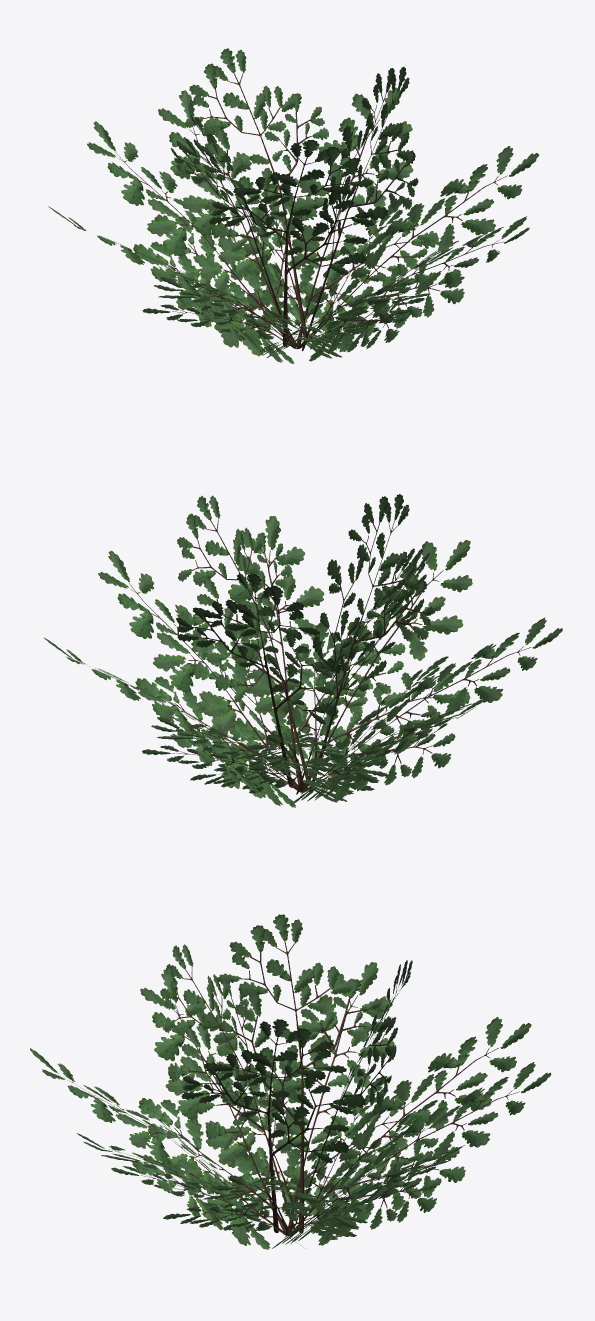
Rendered from Bush_01.obj.
The picture shows the model from 3 angles, top to bottom: view 1: azimuth 30°, elevation 25°; view 2: azimuth 150°, elevation 25°; view 3: azimuth 270°, elevation 25°; orthographic projection. The views are drawn at different scales.
Parts seen in each view (by area): view 1: Plane.323_Plane.350, Plane.316_Plane.343, Plane.326_Plane.354, Plane.322_Plane.349, Plane.319_Plane.346, Plane.324_Plane.352, Plane.327_Plane.355, Plane.320_Plane.347, Plane.321_Plane.348, Plane.318_Plane.345, Plane.317_Plane.344, Plane.325_Plane.353; view 2: Plane.317_Plane.344, Plane.320_Plane.347, Plane.316_Plane.343, Plane.321_Plane.348, Plane.327_Plane.355, Plane.324_Plane.352, Plane.326_Plane.354, Plane.322_Plane.349, Plane.323_Plane.350, Plane.319_Plane.346, Plane.325_Plane.353, Plane.318_Plane.345; view 3: Plane.318_Plane.345, Plane.325_Plane.353, Plane.322_Plane.349, Plane.321_Plane.348, Plane.327_Plane.355, Plane.319_Plane.346, Plane.317_Plane.344, Plane.324_Plane.352, Plane.316_Plane.343, Plane.326_Plane.354, Plane.323_Plane.350, Plane.320_Plane.347.
Boxes of the visible parts, x1,y1,x2,y2 form: Plane.323_Plane.350: [242, 87, 439, 347]; Plane.316_Plane.343: [294, 146, 539, 352]; Plane.326_Plane.354: [177, 48, 328, 337]; Plane.322_Plane.349: [87, 121, 295, 356]; Plane.319_Plane.346: [154, 90, 321, 347]; Plane.324_Plane.352: [209, 140, 387, 346]; Plane.327_Plane.355: [302, 66, 418, 351]; Plane.320_Plane.347: [306, 216, 529, 361]; Plane.321_Plane.348: [142, 276, 341, 358]; Plane.318_Plane.345: [48, 206, 294, 363]; Plane.317_Plane.344: [259, 278, 430, 357]; Plane.325_Plane.353: [170, 115, 288, 334]; Plane.317_Plane.344: [267, 540, 472, 789]; Plane.320_Plane.347: [191, 516, 381, 787]; Plane.316_Plane.343: [98, 550, 308, 798]; Plane.321_Plane.348: [316, 617, 562, 801]; Plane.327_Plane.355: [177, 495, 309, 785]; Plane.324_Plane.352: [309, 494, 434, 792]; Plane.326_Plane.354: [176, 573, 341, 787]; Plane.322_Plane.349: [190, 733, 389, 794]; Plane.323_Plane.350: [44, 637, 300, 807]; Plane.319_Plane.346: [142, 717, 346, 802]; Plane.325_Plane.353: [296, 548, 429, 794]; Plane.318_Plane.345: [290, 697, 488, 805]; Plane.318_Plane.345: [226, 962, 427, 1233]; Plane.325_Plane.353: [199, 914, 384, 1233]; Plane.322_Plane.349: [281, 1017, 531, 1236]; Plane.321_Plane.348: [138, 969, 312, 1232]; Plane.327_Plane.355: [181, 1019, 365, 1232]; Plane.319_Plane.346: [296, 1062, 551, 1245]; Plane.317_Plane.344: [30, 1048, 285, 1249]; Plane.324_Plane.352: [160, 944, 294, 1228]; Plane.316_Plane.343: [163, 1175, 367, 1239]; Plane.326_Plane.354: [290, 960, 412, 1238]; Plane.323_Plane.350: [272, 1145, 464, 1248]; Plane.320_Plane.347: [76, 1133, 305, 1248].
Size of the model in its own units: 1.56 by 0.8796 by 1.57.
1 material, 1 textured.
